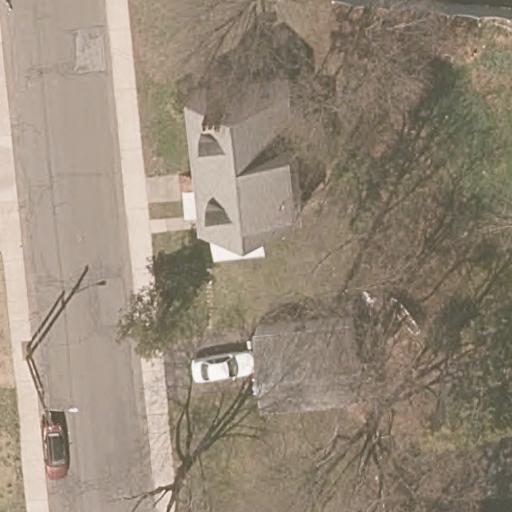DT: (23, 349, 57, 432)
